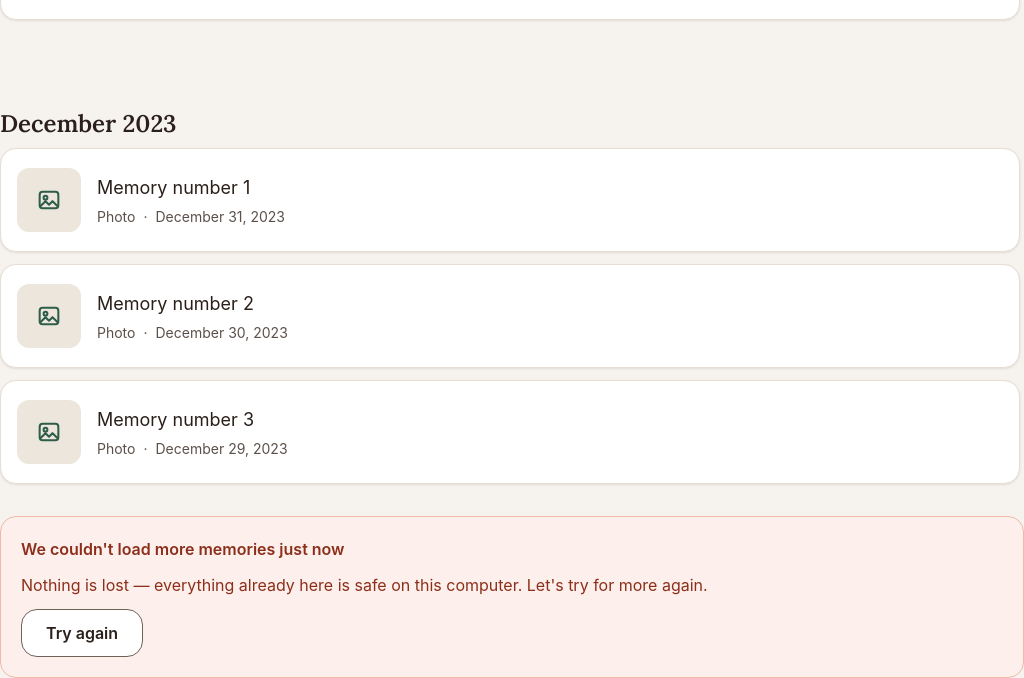
Test: Timeline — mid-scroll pagination failure stays non-silent and recoverable (#101) › retries the failed page on demand, clears the error, and appends the recovered memories
(page scrolled)
What coordinates should you click on to do the following:
click the button "Try again"
I would click on:
 (82, 633)
Its box is 21,609 -> 143,657.
(page scrolled)
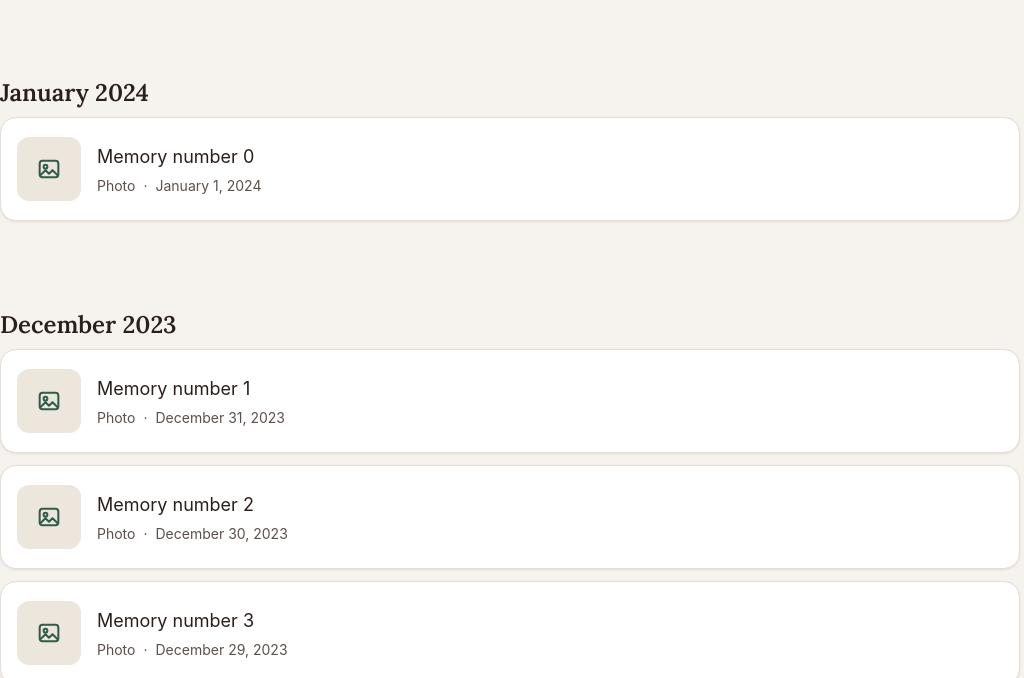
Expected: the text "Memory number 0" is shown, 97,143 -> 262,172
Expected: the message is gone
